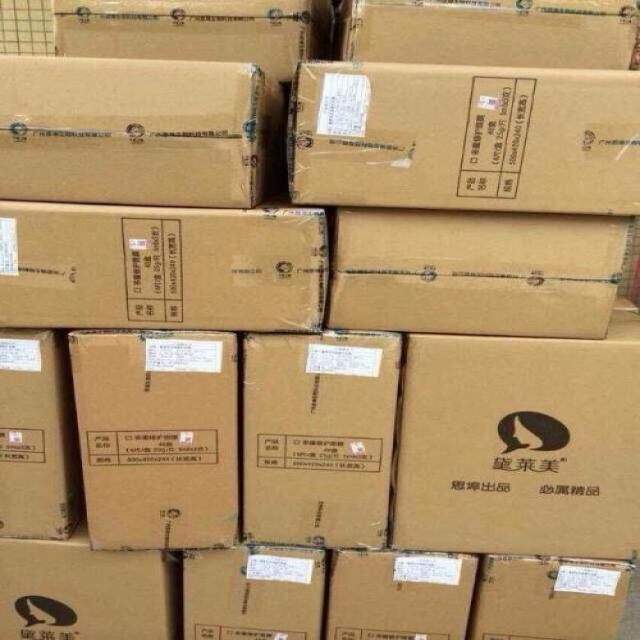box: (391, 297, 637, 560), (287, 58, 638, 216), (0, 200, 329, 333), (0, 55, 283, 209), (328, 207, 637, 339), (68, 330, 239, 551), (243, 329, 402, 551), (52, 0, 335, 82), (0, 523, 172, 639), (0, 328, 76, 540), (471, 554, 636, 639), (327, 549, 479, 639), (183, 545, 325, 639)
